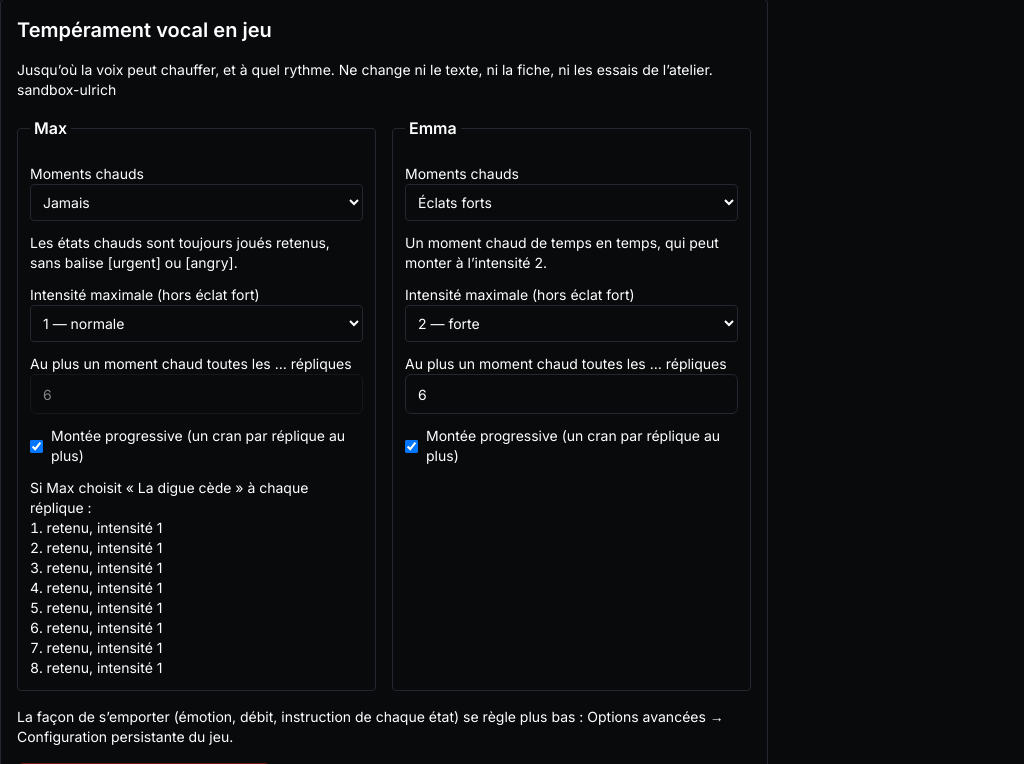
Test: SpeechPacingPanel › shows Max calm by default, previews a change and saves only on click
Later steps or results of the test are not shown.
Check: the dropdown named "Intensité maximale Max" shows "1 — normale", box [30, 305, 363, 342]
Check: the dropdown named "Moments chauds Emma" shows "Éclats forts", box [405, 184, 738, 221]
Select "Éclats forts" in the dropdown named "Moments chauds Max" at (196, 202), box [30, 184, 363, 221]
(page scrolled)
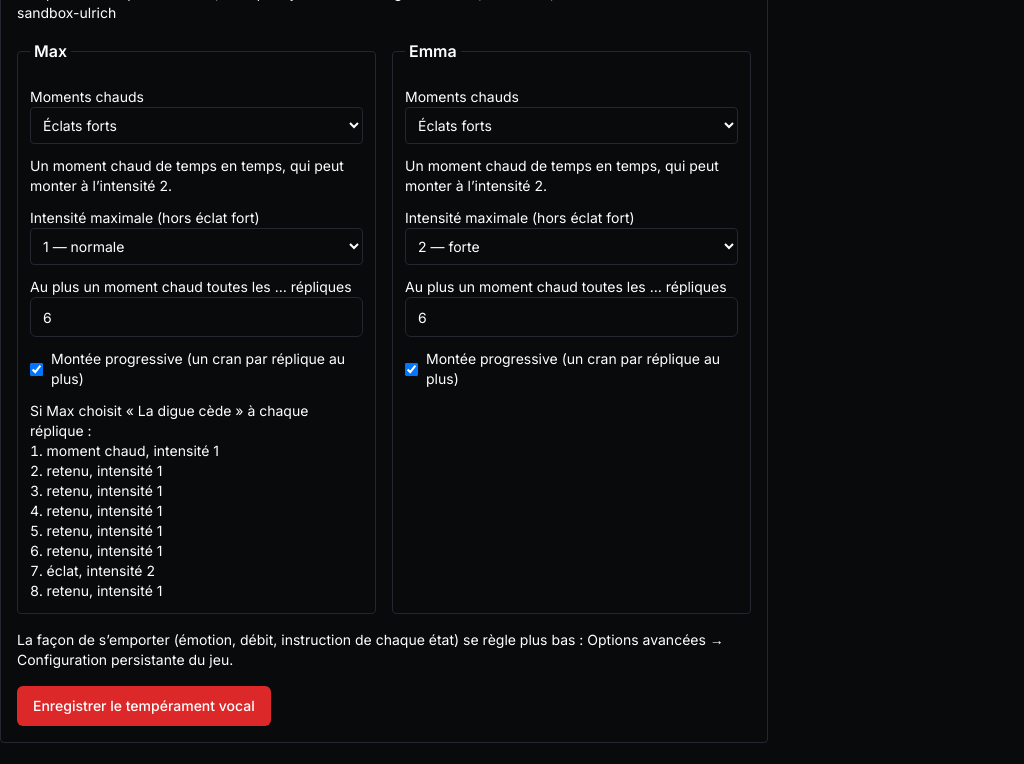
Check: the list named "Aperçu Max" shows "éclat, intensité 2", box [47, 442, 219, 599]
